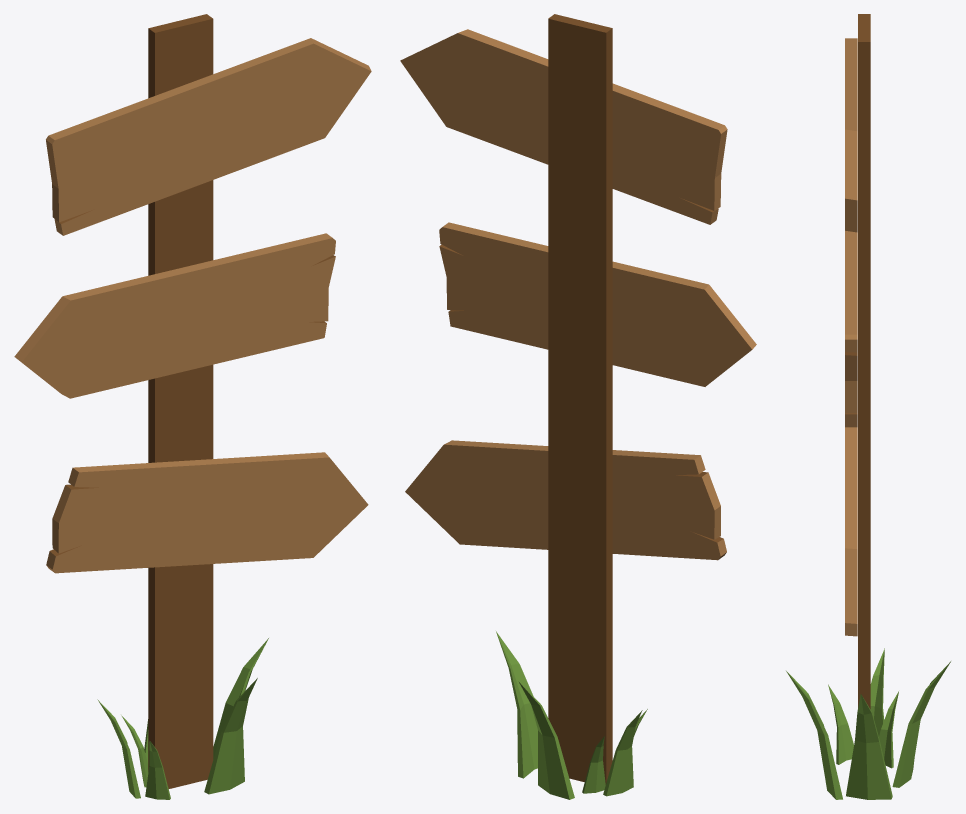
Rendered from Wooden Sign.glb.
3 renders of one model, left to right at view 1: azimuth 30°, elevation 25°; view 2: azimuth 150°, elevation 25°; view 3: azimuth 270°, elevation 25°, orthographic.
Parts seen in each view (by area): view 1: Sign3; view 2: Sign3; view 3: Sign3.
Part boxes in pixels (x1=…): Sign3: x1=14, y1=14, x2=371, y2=799; Sign3: x1=400, y1=14, x2=756, y2=799; Sign3: x1=786, y1=14, x2=950, y2=799.
Size of the model in its own units: 0.9682 by 1.98 by 0.4007.
